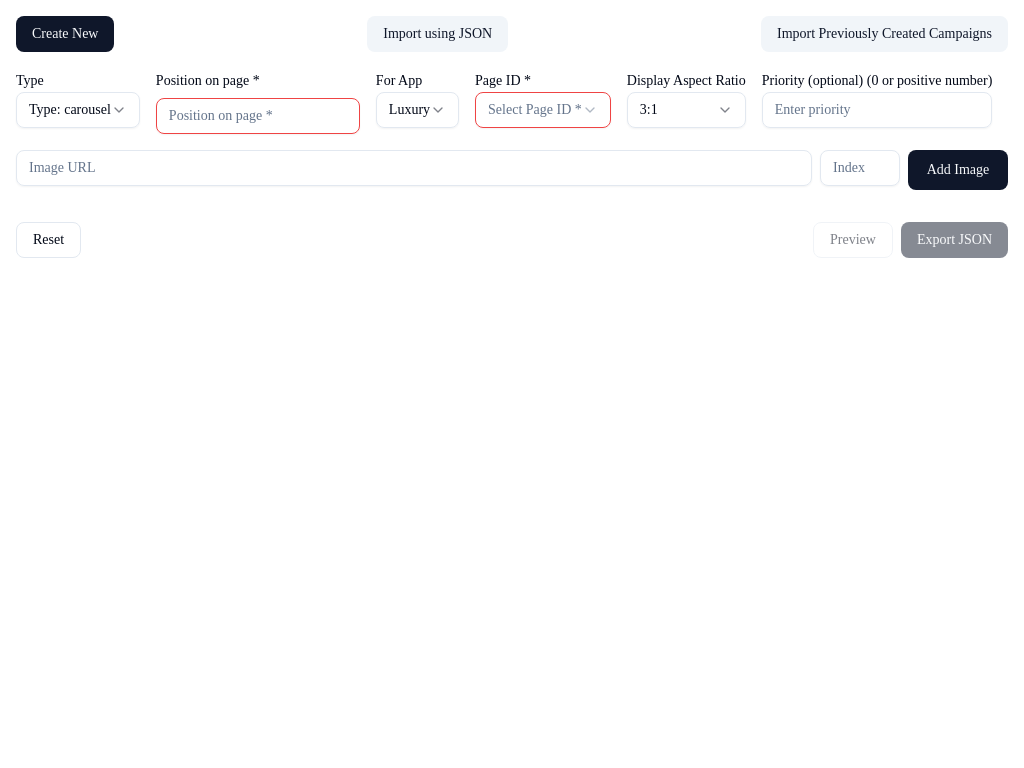
ImageCarouselEditor › Top Controls › updates banner IDs when position changes
Note: Add an image
Step 1. Type "https://example.com/image1.jpg" into the field with placeholder "Image URL" → (414, 168), box [16,150,812,186]
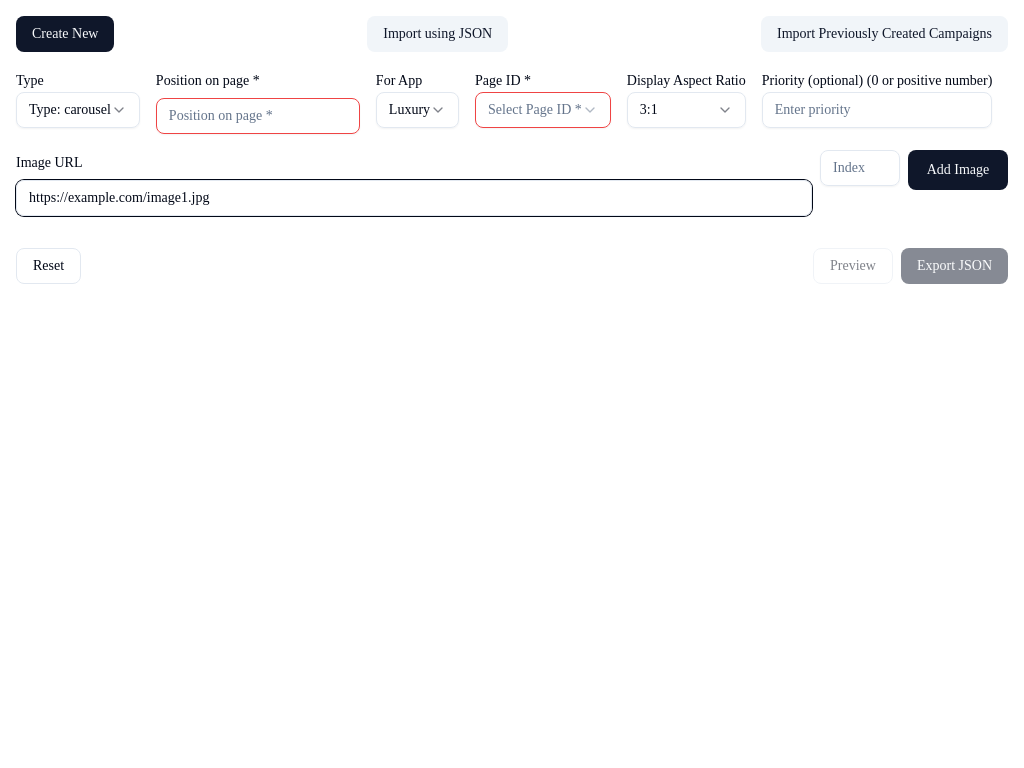
Step 2. Click the button "Add Image" → (958, 170), box [908,150,1008,190]
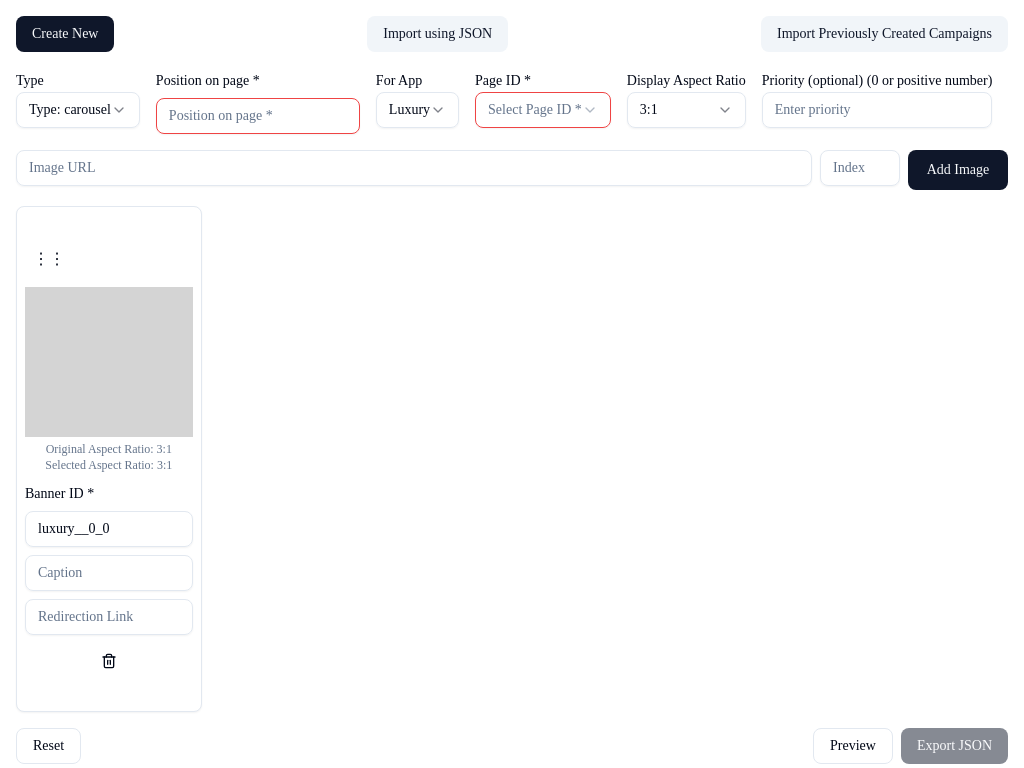
Note: Change position
Step 3. Type "2" into the number field with placeholder "Position on page *" → (258, 116), box [156,98,360,134]
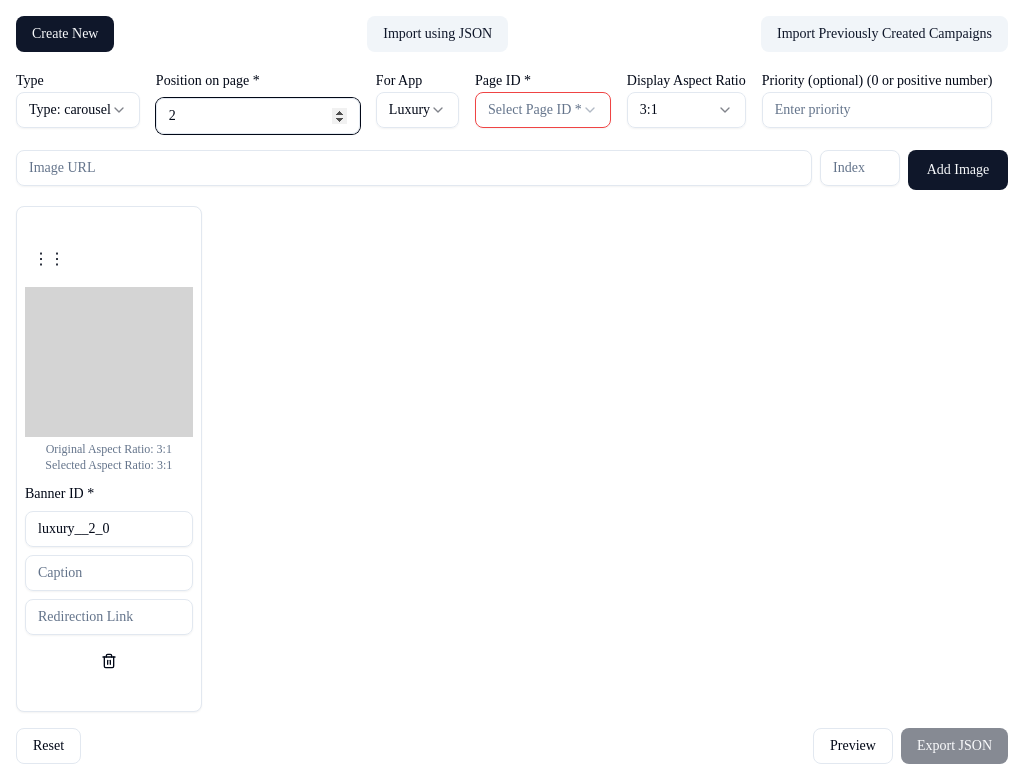
Check: the field with placeholder "Banner ID *" holds "luxury__2_0", box [25,511,193,547]
